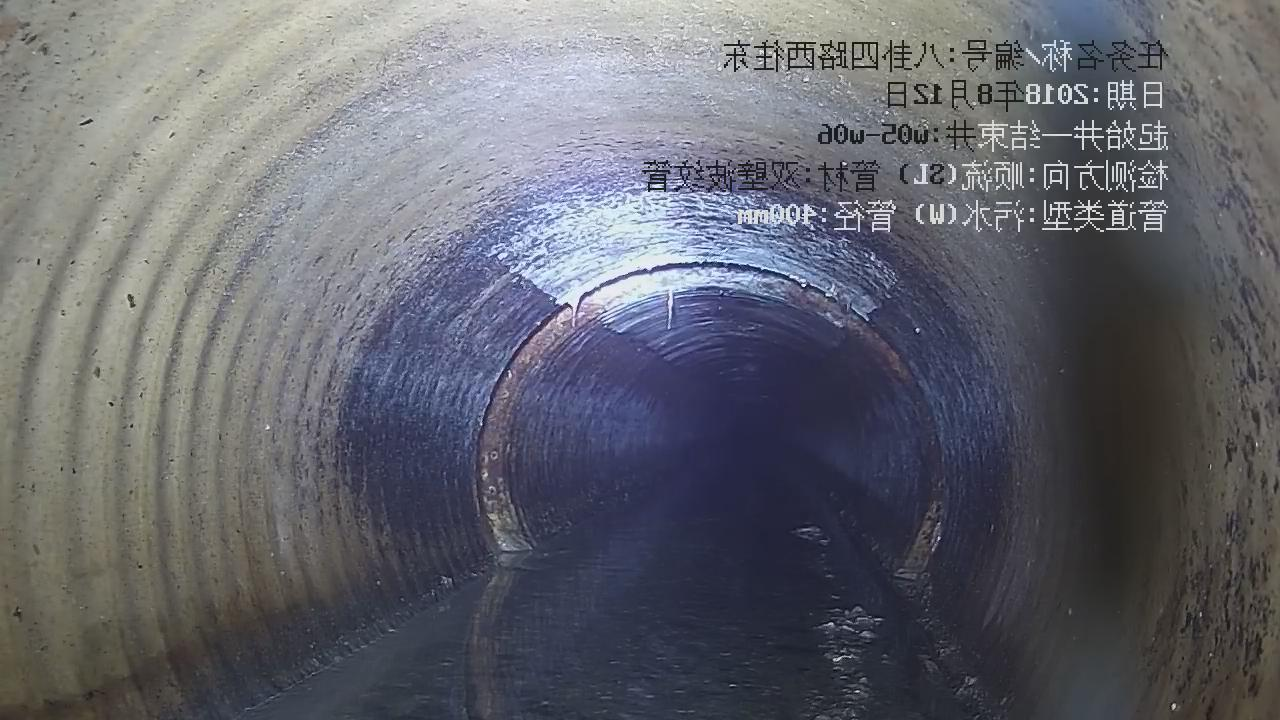CKTJ: (466, 254, 959, 590)
